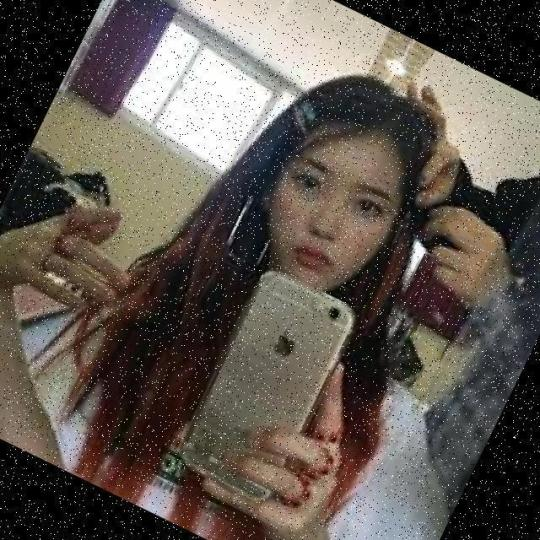phone: (179, 264, 364, 503)
